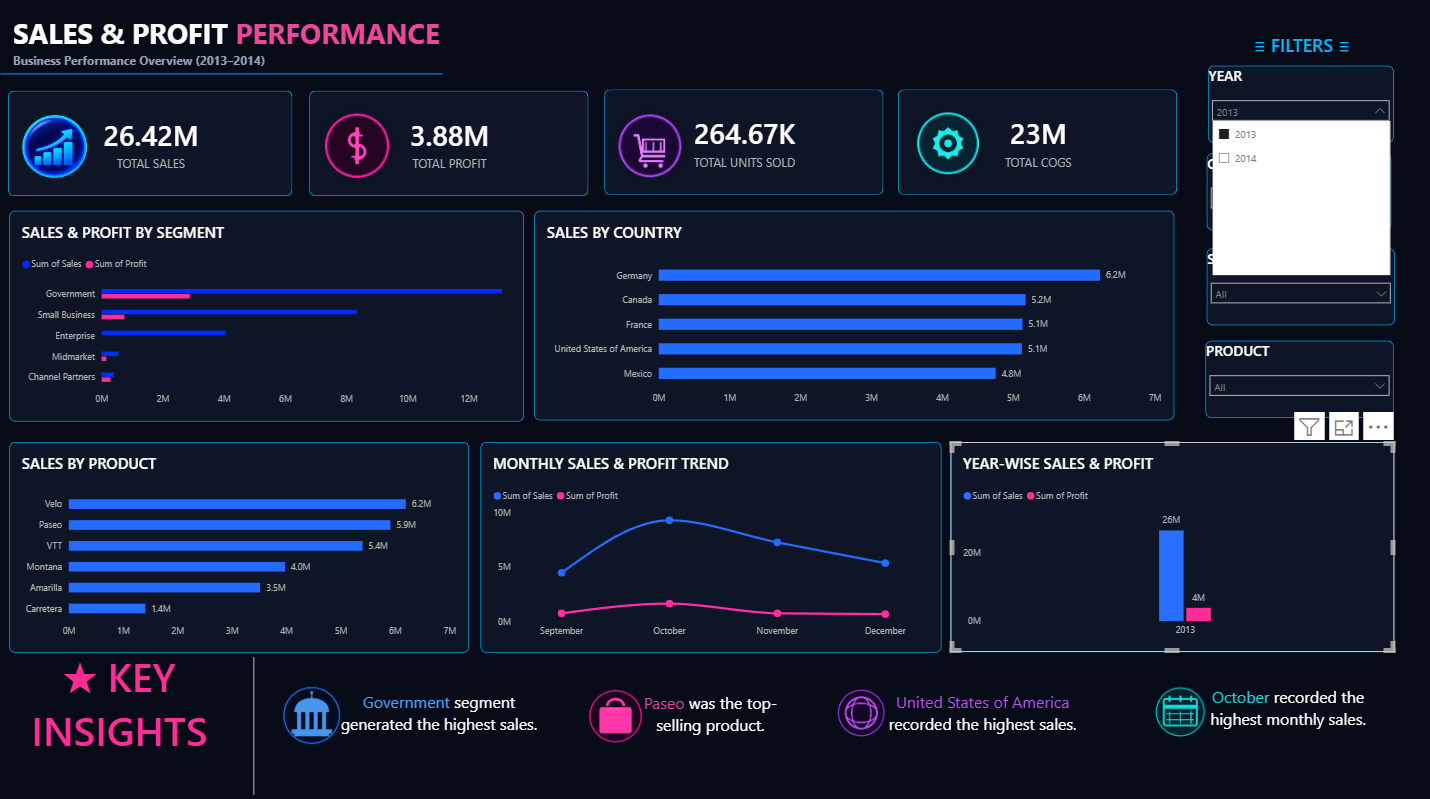

The page's visual inventory and layout, read from the dashboard file:
{"tool":"powerbi","page":{"name":"Sales & Profit Overview","canvas":[1920,1080],"ordinal":0},"visuals":[{"type":"textbox","box":[20.9,22.7,577,162.2],"z":0},{"type":"slicer","title":"YEAR","fields":{"Values":["Week4_Final_Cleaned_Sales_Data.Year"]},"box":[1622.3,92.4,248.8,103.1],"z":0,"group":"g1"},{"type":"shape","box":[3.5,82,592,41.9],"z":1000},{"type":"slicer","title":"COUNTRY","fields":{"Values":["Week4_Final_Cleaned_Sales_Data.Country"]},"box":[1620.9,209.9,247.1,103.1],"z":1000,"group":"g1"},{"type":"cardVisual","fields":{"Data":["Sum(Week4_Final_Cleaned_Sales_Data.Sales)"]},"box":[14,125.6,381.6,141.3],"z":2000},{"type":"slicer","title":"SEGMENT","fields":{"Values":["Week4_Final_Cleaned_Sales_Data.Segment"]},"box":[1619.5,337.5,252,103.1],"z":2000,"group":"g1"},{"type":"cardVisual","fields":{"Data":["Sum(Week4_Final_Cleaned_Sales_Data.Profit)"]},"box":[416.9,125.9,374,141],"z":3000},{"type":"slicer","title":"PRODUCT","fields":{"Values":["Week4_Final_Cleaned_Sales_Data.Product"]},"box":[1618.6,461.2,252,103.1],"z":3000,"group":"g1"},{"type":"cardVisual","fields":{"Data":["Sum(Week4_Final_Cleaned_Sales_Data.Units Sold)"]},"box":[812.1,123.8,374,141.3],"z":4000},{"type":"cardVisual","fields":{"Data":["Sum(Week4_Final_Cleaned_Sales_Data.COGS)"]},"box":[1205.9,123.8,374.3,141.3],"z":5000},{"type":"clusteredBarChart","title":"SALES & PROFIT BY SEGMENT","fields":{"Category":["Week4_Final_Cleaned_Sales_Data.Segment"],"Y":["Sum(Week4_Final_Cleaned_Sales_Data.Sales)","Sum(Week4_Final_Cleaned_Sales_Data.Profit)"]},"box":[15.7,286,689.3,282.6],"z":6000},{"type":"clusteredBarChart","title":"SALES BY COUNTRY","fields":{"Category":["Week4_Final_Cleaned_Sales_Data.Country"],"Y":["Sum(Week4_Final_Cleaned_Sales_Data.Sales)"]},"box":[718.6,286,857.8,280.8],"z":7000},{"type":"clusteredBarChart","title":"SALES BY PRODUCT","fields":{"Category":["Week4_Final_Cleaned_Sales_Data.Product"],"Y":["Sum(Week4_Final_Cleaned_Sales_Data.Sales)"]},"box":[15.7,596.5,616,282.6],"z":8000},{"type":"lineChart","title":"MONTHLY SALES & PROFIT TREND","fields":{"Category":["Week4_Final_Cleaned_Sales_Data.Month Name"],"Y":["Sum(Week4_Final_Cleaned_Sales_Data.Sales)","Sum(Week4_Final_Cleaned_Sales_Data.Profit)"]},"box":[647.1,596.5,617.4,282.6],"z":9000},{"type":"group","id":"g1","title":"Group 1","box":[1618.6,92.4,252.9,472],"z":10000},{"type":"textbox","box":[1657,48.8,181.4,43.3],"z":11000},{"type":"clusteredColumnChart","title":"YEAR-WISE SALES & PROFIT","fields":{"Category":["Week4_Final_Cleaned_Sales_Data.Year"],"Y":["Sum(Week4_Final_Cleaned_Sales_Data.Sales)","Sum(Week4_Final_Cleaned_Sales_Data.Profit)"]},"box":[1276.7,596.5,594.8,281.9],"z":12000},{"type":"textbox","box":[10.5,873.8,305.2,200.6],"z":13000},{"type":"image","box":[6.3,113.4,139.2,174.4],"z":13001},{"type":"image","box":[427.3,116.9,108.1,164],"z":13002},{"type":"image","box":[820.8,112.3,105.7,174.4],"z":13003},{"type":"image","box":[1220.9,108.5,104.3,174.4],"z":13004},{"type":"shape","box":[205,885,276.7,185],"z":13005},{"type":"textbox","box":[446.2,930,290.6,150],"z":13006},{"type":"image","box":[363.8,916,113.7,93.1],"z":13007},{"type":"textbox","box":[850.5,931.7,207.6,64.2],"z":13008},{"type":"image","box":[782.4,920.9,90.7,85.1],"z":13009},{"type":"textbox","box":[1186,930.4,266.9,81.6],"z":13010},{"type":"image","box":[1115.2,921.3,82.3,76],"z":13011},{"type":"textbox","box":[1618.3,923.7,221.2,83],"z":13012},{"type":"image","box":[1541.5,918.1,86.5,80.2],"z":13013}]}

Visuals, with their boxes in screenshot pixels (x1, y1, x2, y2), scaled from the page's 1920x1080 canvas onto the 1430x799 screenshot:
textbox: 16, 17, 445, 137
"YEAR" slicer: 1208, 68, 1394, 145
shape: 3, 61, 444, 92
"COUNTRY" slicer: 1207, 155, 1391, 232
cardVisual - Sum(Week4_Final_Cleaned_Sales_Data.Sales): 10, 93, 295, 197
"SEGMENT" slicer: 1206, 250, 1394, 326
cardVisual - Sum(Week4_Final_Cleaned_Sales_Data.Profit): 311, 93, 589, 197
"PRODUCT" slicer: 1206, 341, 1393, 417
cardVisual - Sum(Week4_Final_Cleaned_Sales_Data.Units Sold): 605, 92, 883, 196
cardVisual - Sum(Week4_Final_Cleaned_Sales_Data.COGS): 898, 92, 1177, 196
"SALES & PROFIT BY SEGMENT" clusteredBarChart: 12, 212, 525, 421
"SALES BY COUNTRY" clusteredBarChart: 535, 212, 1174, 419
"SALES BY PRODUCT" clusteredBarChart: 12, 441, 470, 650
"MONTHLY SALES & PROFIT TREND" lineChart: 482, 441, 942, 650
"Group 1" group: 1206, 68, 1394, 418
textbox: 1234, 36, 1369, 68
"YEAR-WISE SALES & PROFIT" clusteredColumnChart: 951, 441, 1394, 650
textbox: 8, 646, 235, 795
image: 5, 84, 108, 213
image: 318, 86, 399, 208
image: 611, 83, 690, 212
image: 909, 80, 987, 209
shape: 153, 655, 359, 792
textbox: 332, 688, 549, 798
image: 271, 678, 356, 747
textbox: 633, 689, 788, 737
image: 583, 681, 650, 744
textbox: 883, 688, 1082, 749
image: 831, 682, 892, 738
textbox: 1205, 683, 1370, 745
image: 1148, 679, 1213, 739
